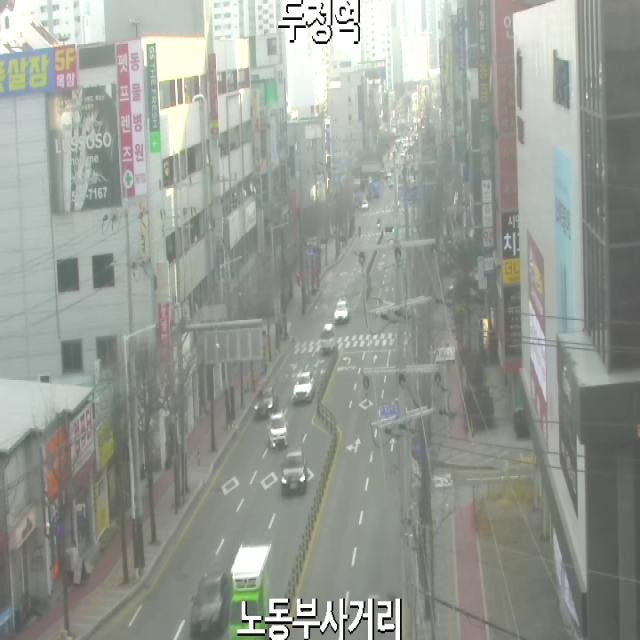Car: (190, 572, 230, 638), (282, 449, 308, 496), (293, 370, 315, 404), (254, 387, 277, 419), (267, 413, 288, 448), (322, 322, 335, 355), (334, 297, 349, 325), (362, 200, 369, 210)
Truck: (228, 543, 272, 640)
